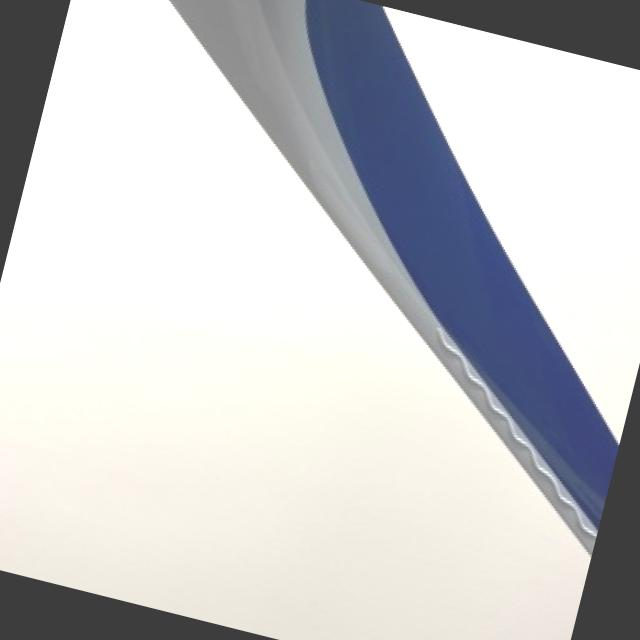healthy: (175, 0, 620, 553), (391, 8, 640, 435)
